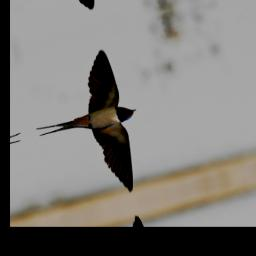Swallow: (21, 41, 154, 215)
